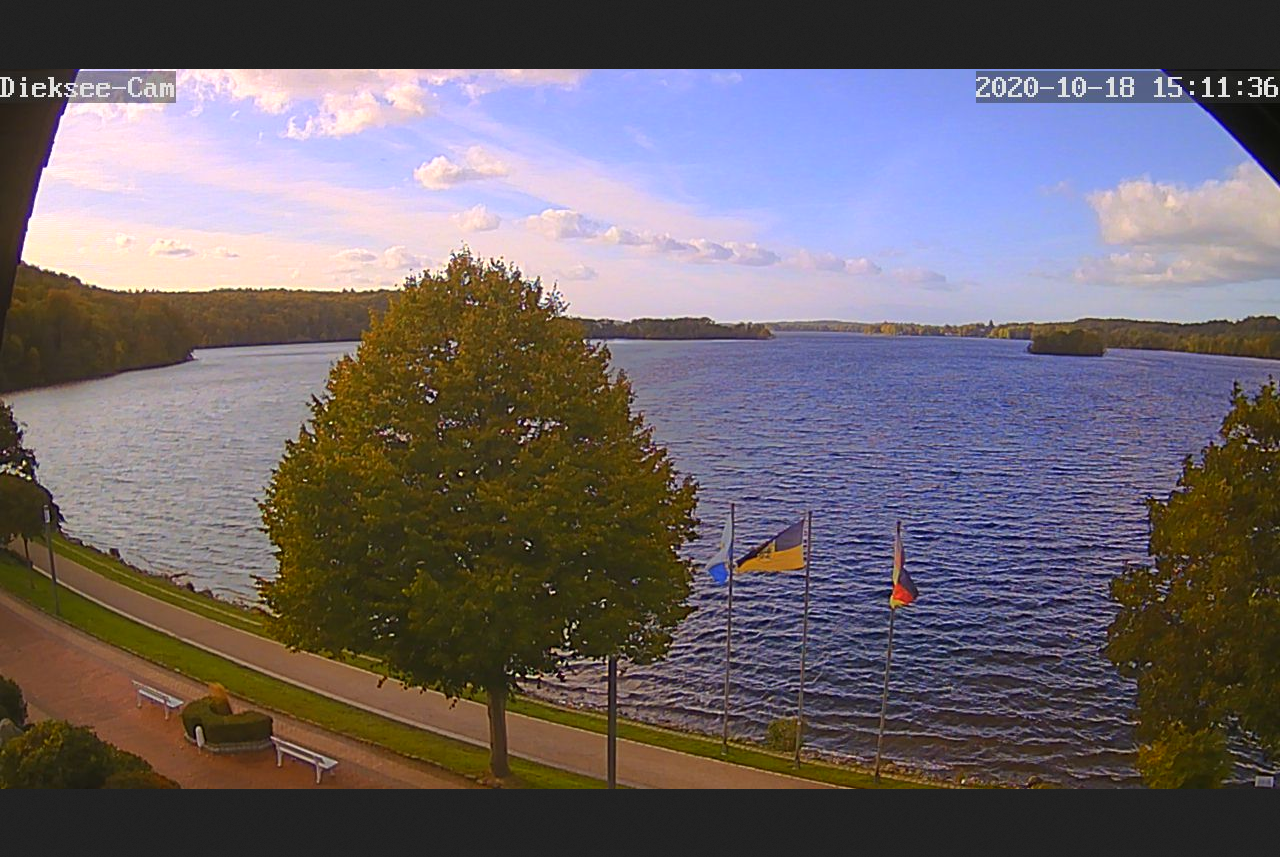maybe: (890, 533, 918, 612)
no: (708, 517, 734, 581)
yes: (737, 517, 804, 576)
